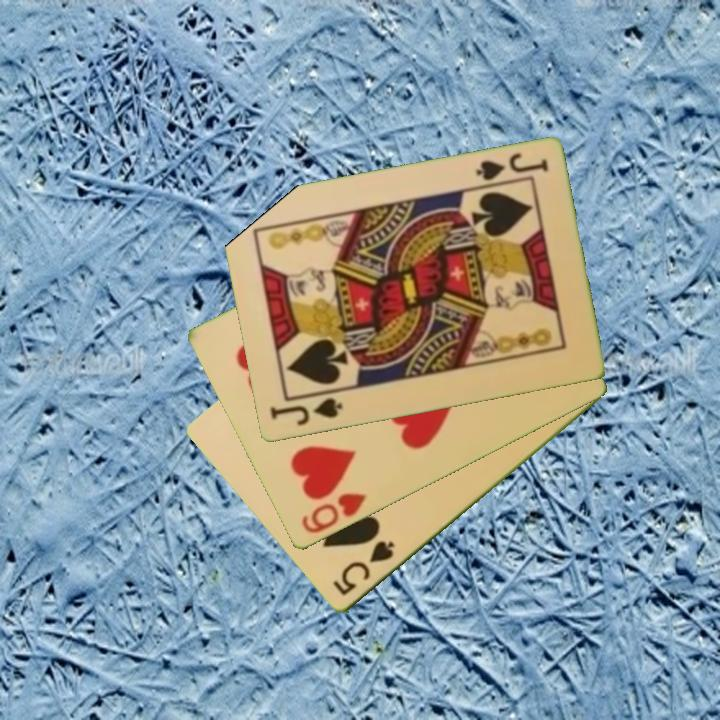5s: (329, 537, 398, 600)
6h: (297, 489, 369, 537)
Js: (266, 395, 346, 429), (472, 150, 551, 184)
